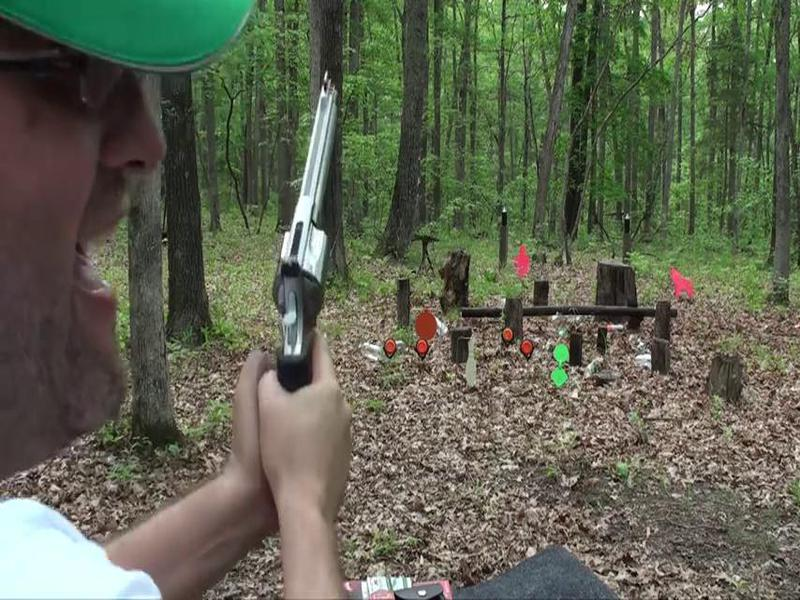Revolver: (245, 52, 394, 414)
